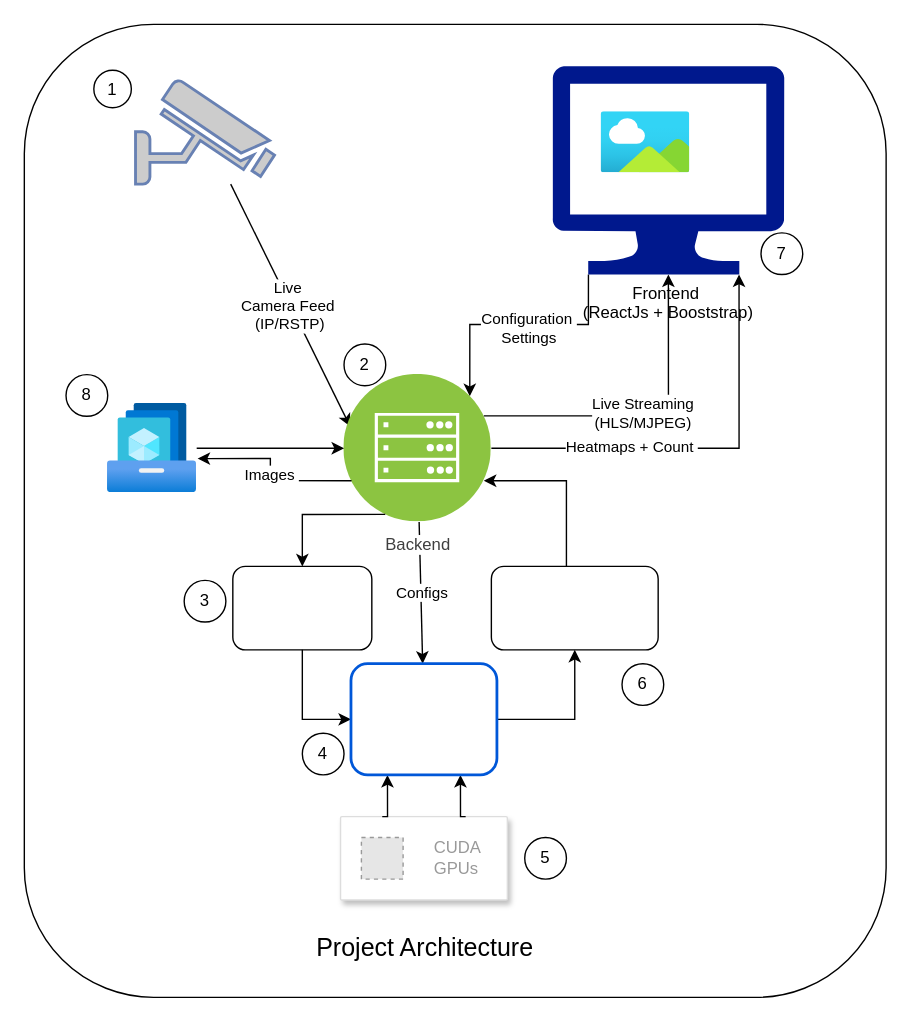
Some shapes in this 910 by 1022 pixel diagram are drawn without their labels. Grey dashed boxes stand in for pictures. Here are the shapes that lost their labels. From the top down, the centre of each, then its label:
At point 204,131: "External Camera".
At point 151,447: "Images And Annotation DB".
At point 301,607: "Pre - Processing DownSampling Resizing".
At point 574,607: "Post - Processing".
At point 423,719: "Vmamba TMTB CSRNet YoloV8 MCNN".
